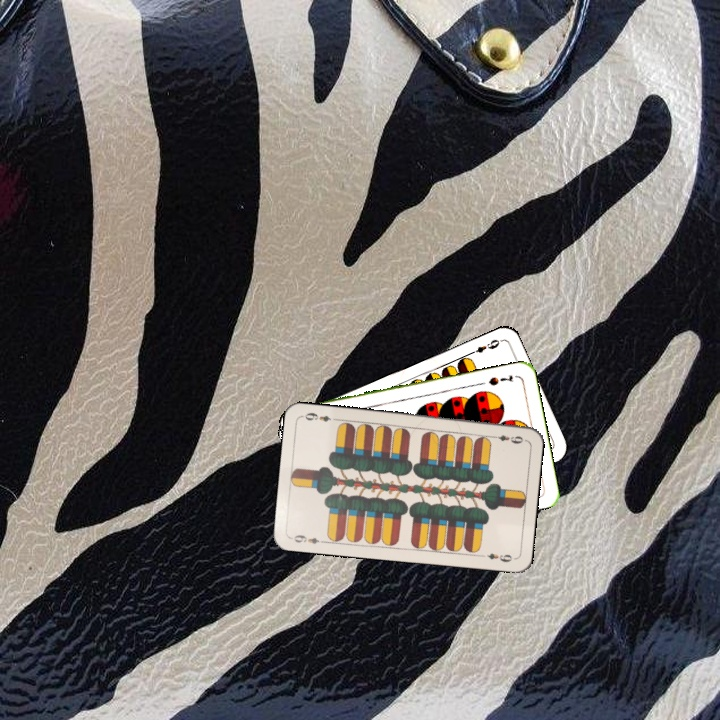E9: (465, 335, 502, 358), (287, 530, 328, 547), (487, 431, 527, 446)
S7: (485, 371, 516, 388)
